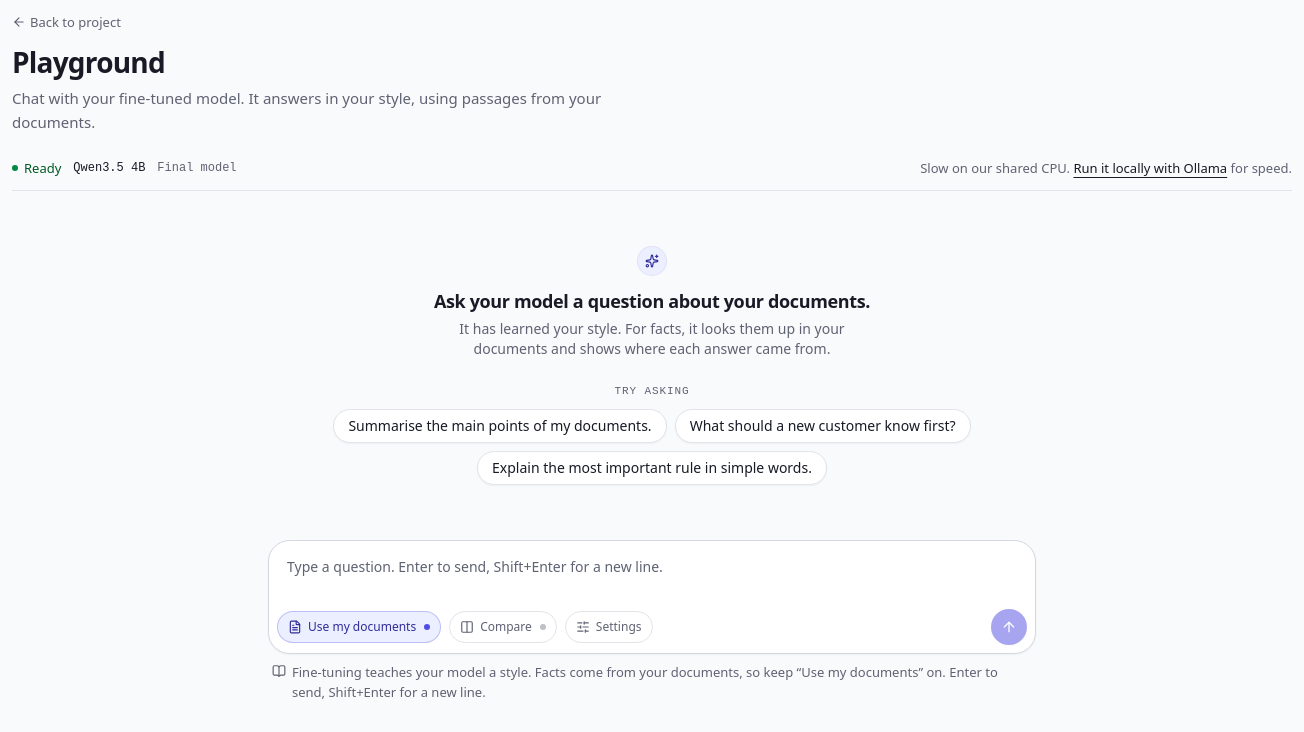
PlaygroundPage › streams tokens into the answer and shows sources under it
The image size is (1304, 732).
Type "How do I reset it?" into the text box named "Your message" at (652, 577), box x1=277 y1=549 x2=1027 y2=605
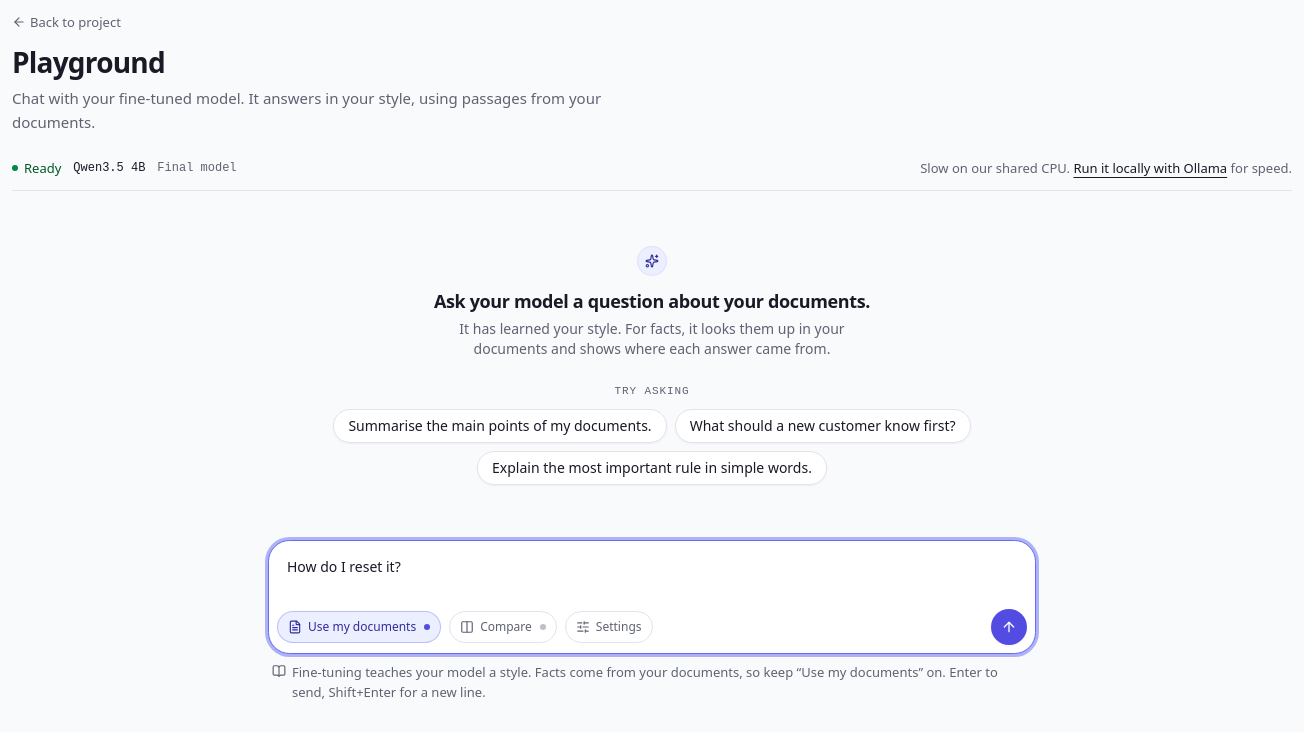
Click the button named "Send" at (1009, 627), box x1=991 y1=609 x2=1027 y2=645
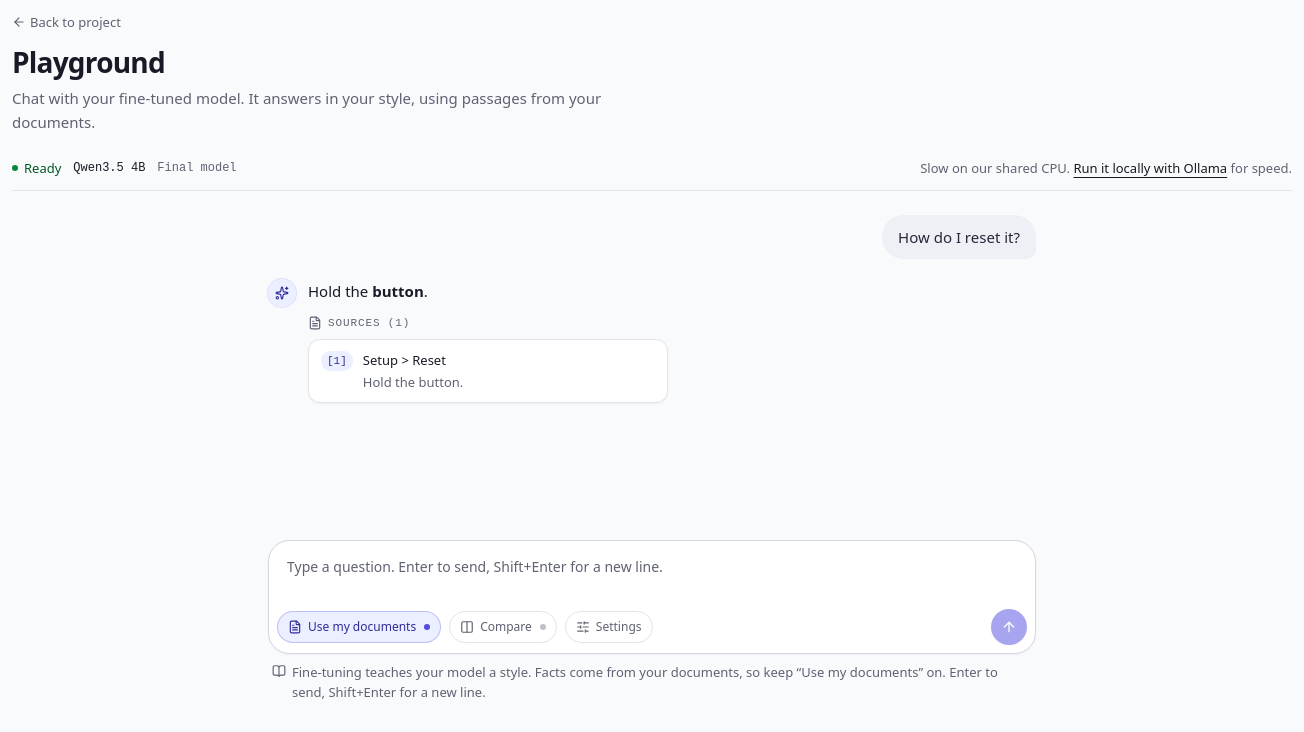
Expected: the text "button" is shown, x1=372 y1=281 x2=424 y2=301
Expected: the text "Sources (1)" is shown, x1=328 y1=315 x2=410 y2=331
Expected: the text "Setup > Reset" is shown, x1=363 y1=351 x2=446 y2=369
